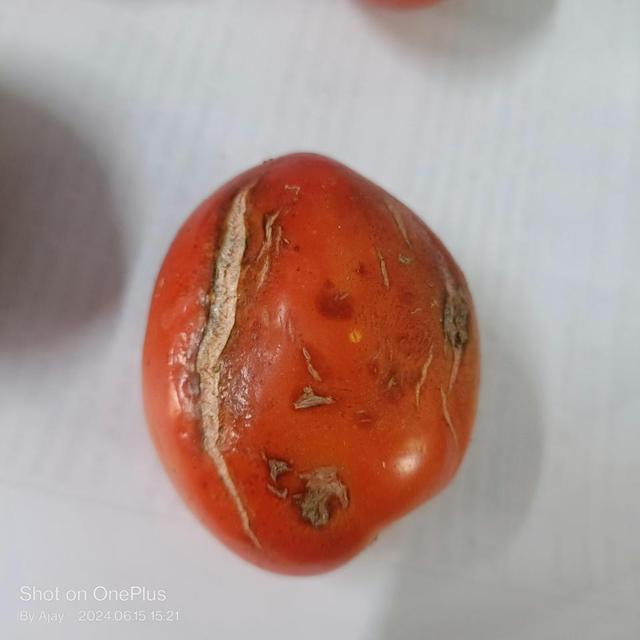Cracking Fruit: (144, 115, 215, 361)
